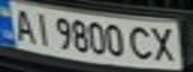0: (103, 21, 130, 59), (87, 19, 109, 56)
8: (66, 16, 90, 53)
9: (51, 15, 75, 51)
A: (6, 6, 39, 43)
C: (127, 24, 157, 62)
I: (27, 10, 54, 46)
X: (145, 24, 181, 63)
